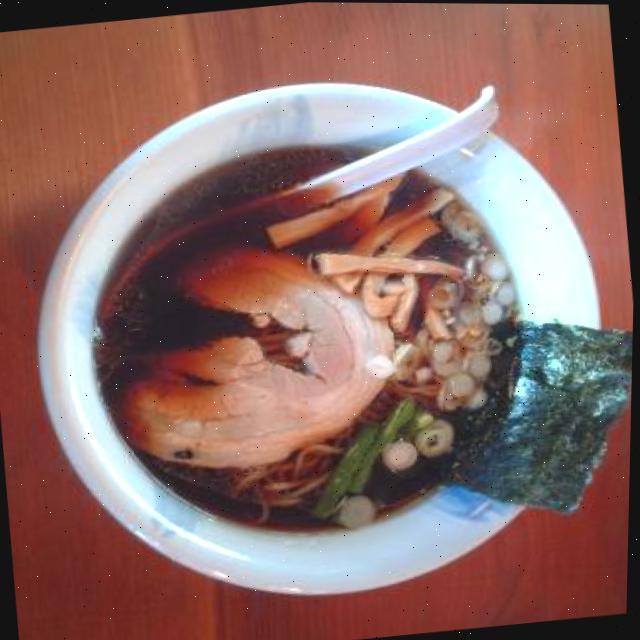面条主食: (3, 38, 639, 636)
